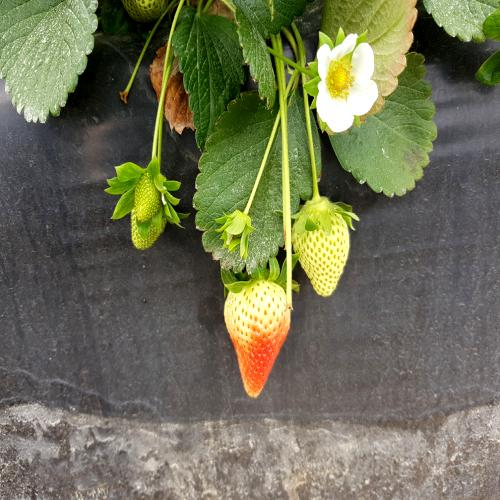partially-ripe: (222, 258, 294, 416)
